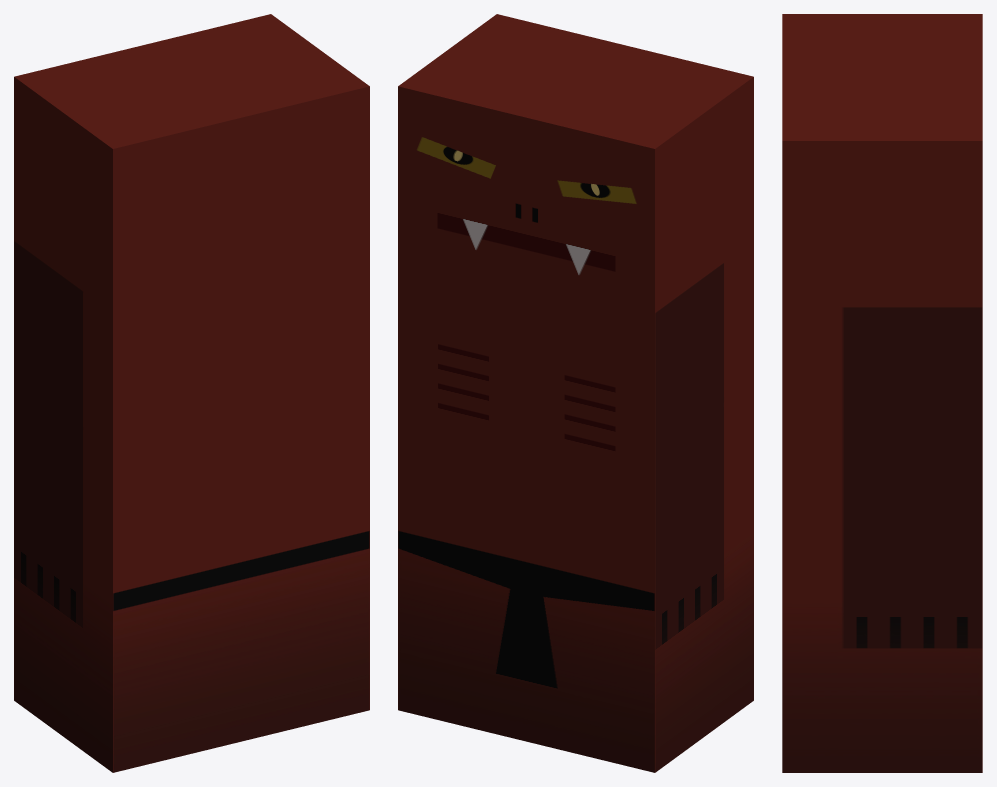
File: Monster_textured.fbx
The picture shows the model from 3 angles, left to right: view 1: azimuth 30°, elevation 25°; view 2: azimuth 150°, elevation 25°; view 3: azimuth 270°, elevation 25°; orthographic projection.
Visible parts, largest first — view 1: pCube29; view 2: pCube29; view 3: pCube29.
Part boxes in pixels (<box>): pCube29: <box>14,14,369,772</box>; pCube29: <box>398,14,753,772</box>; pCube29: <box>782,14,982,772</box>.
Bounding box in the file's own units: 44.82 × 104 × 29.86.
